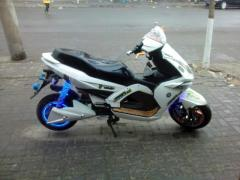电动车: (30, 21, 222, 148)
